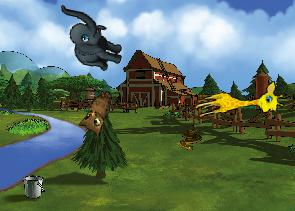elephant: (50, 4, 130, 73)
giraffe: (192, 79, 286, 129)
owl: (77, 86, 112, 137)
